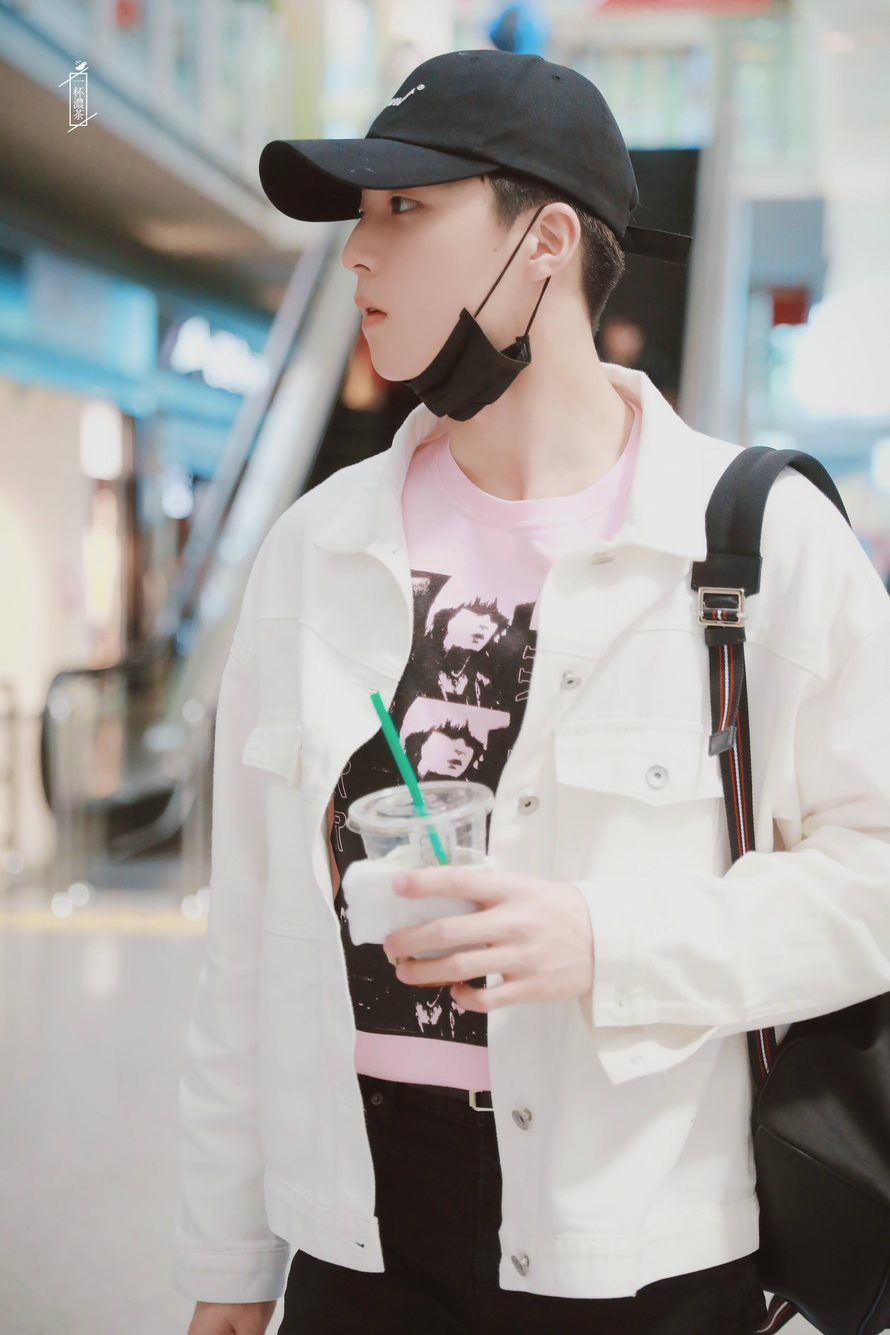WRONG: (346, 181, 499, 400)
